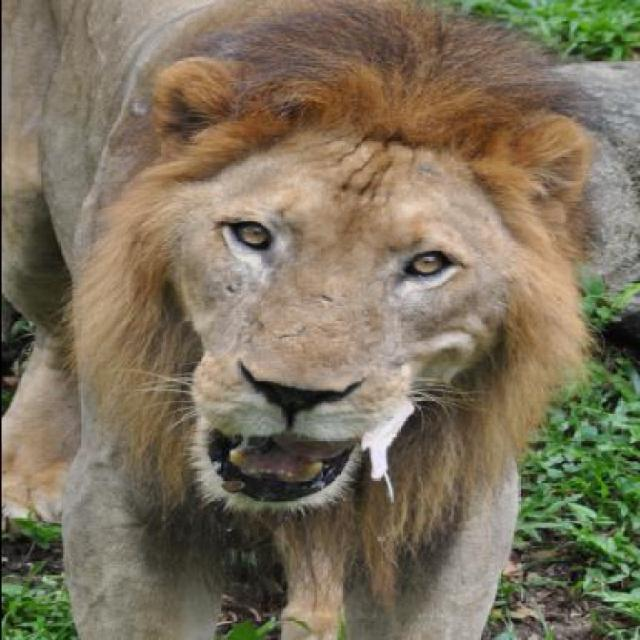Lion: (2, 1, 623, 638)
